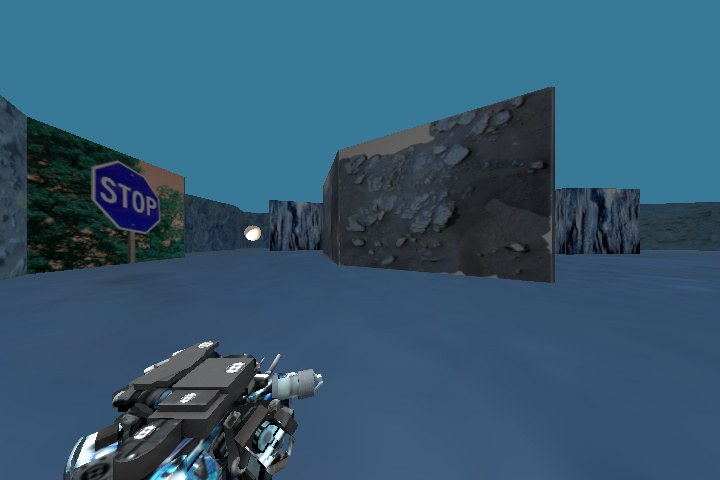stop_sign: (78, 151, 165, 233)
white_sphere: (240, 218, 272, 252)
